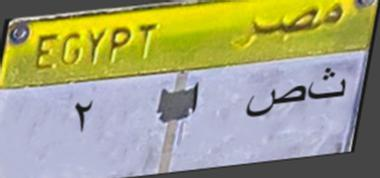2: (66, 94, 104, 136)
alif: (182, 79, 211, 112)
saad: (240, 78, 305, 122)
thaa: (307, 63, 353, 107)
